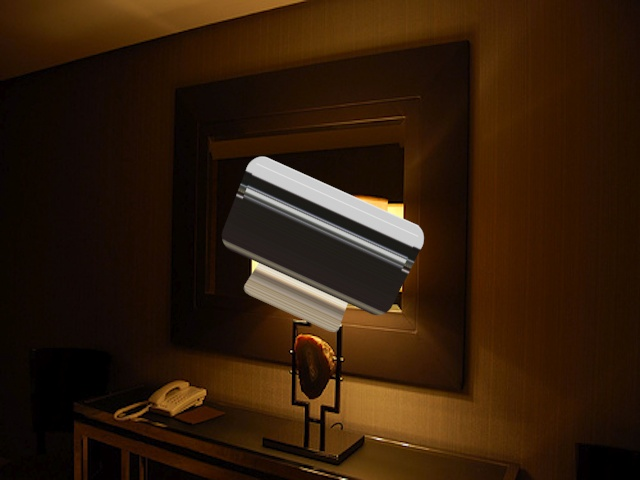monitor: (217, 153, 432, 337)
